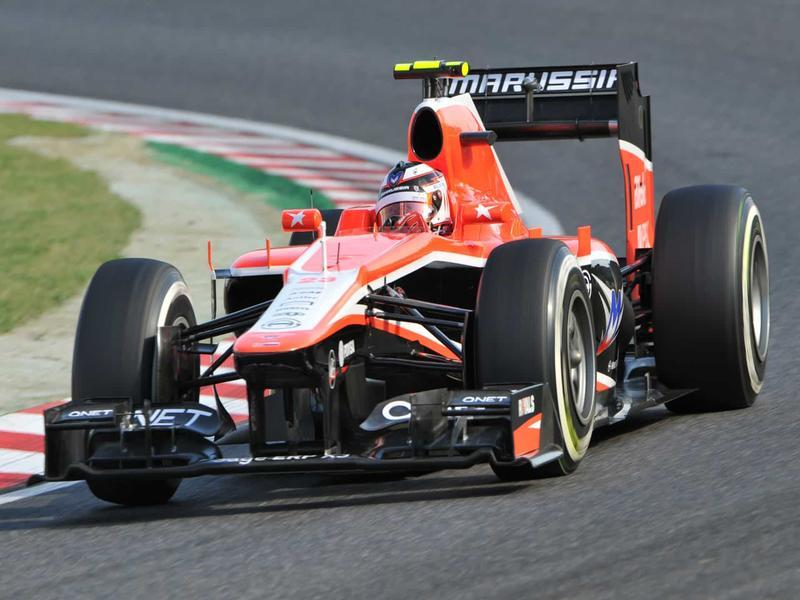f1: (67, 56, 779, 475)
